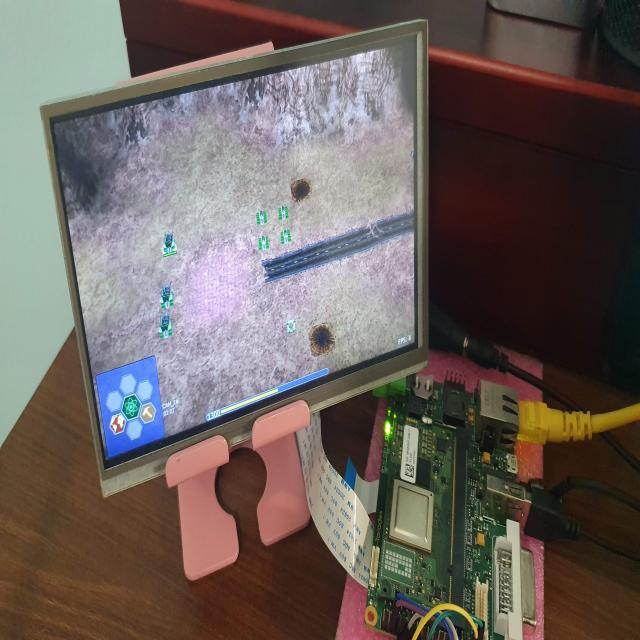som: (373, 419, 469, 606)
